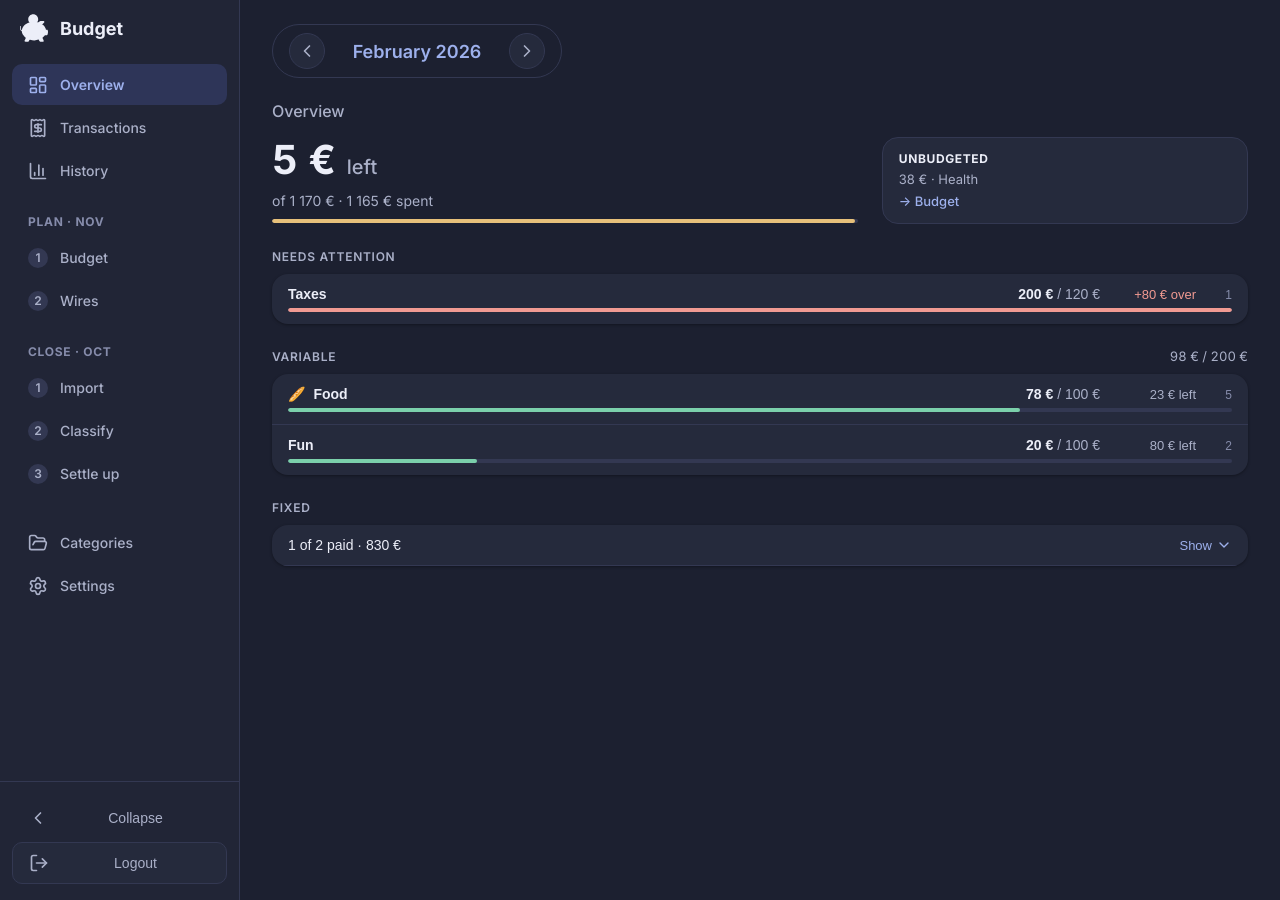
Test: Dashboard Page › should show the transactions of a category when its row is expanded
This screenshot has width=1280, height=900.
Click the button "🥖 Food 78 € / 100 € 23 € left 5" at (331, 394), box [272, 374, 1248, 424]
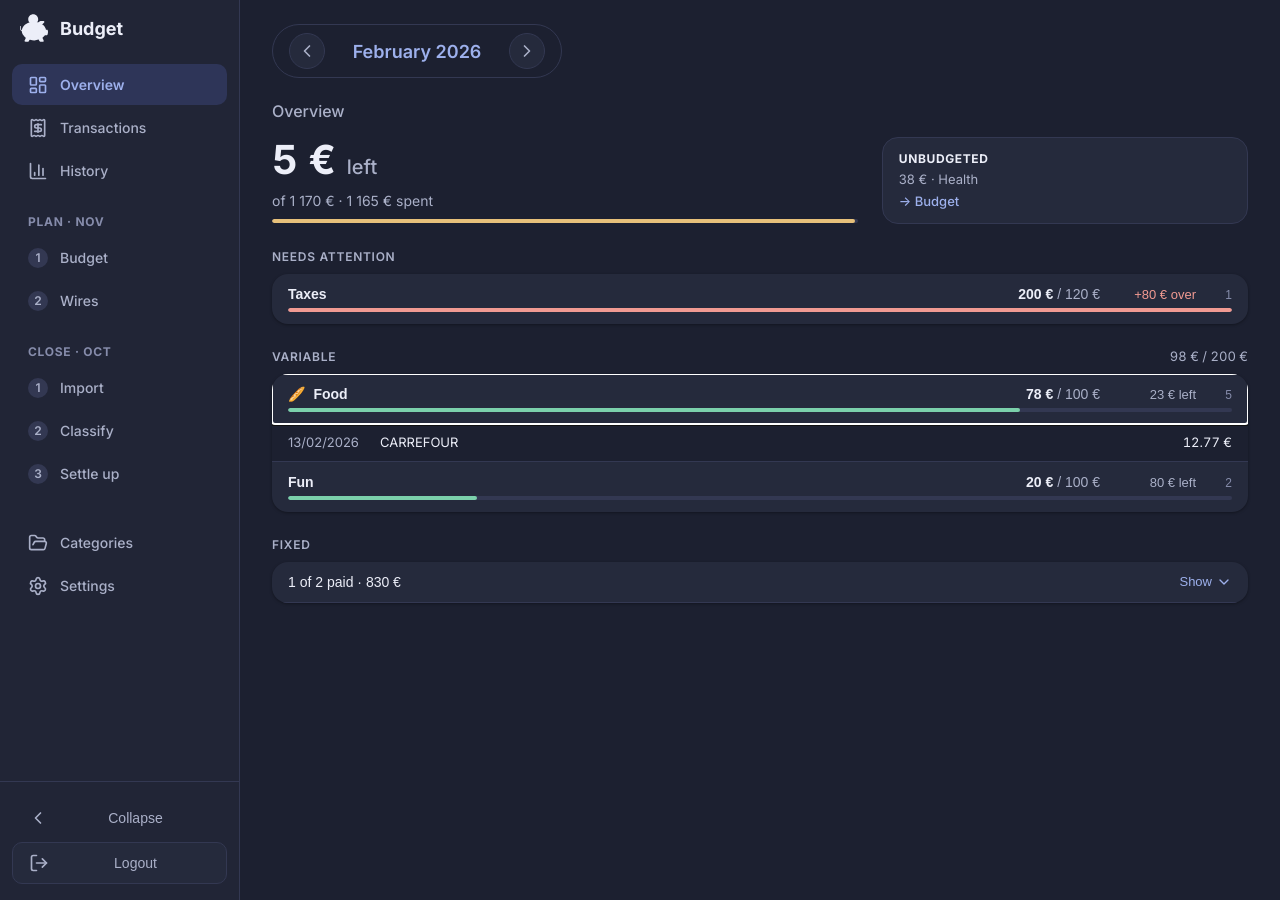
Now the text "CARREFOUR" is shown, box [380, 434, 458, 450]
Now the text "12.77 €" is shown, box [1183, 433, 1232, 453]
